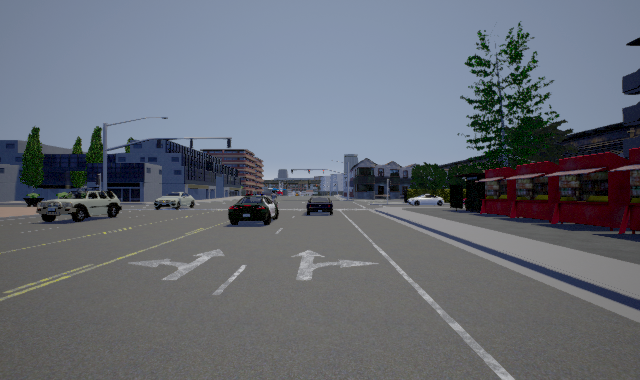traffic_light: (308, 169, 310, 174), (291, 169, 293, 174)
vehicle: (36, 190, 122, 222), (228, 194, 279, 225), (154, 192, 195, 210), (306, 197, 333, 215), (407, 194, 444, 206)
